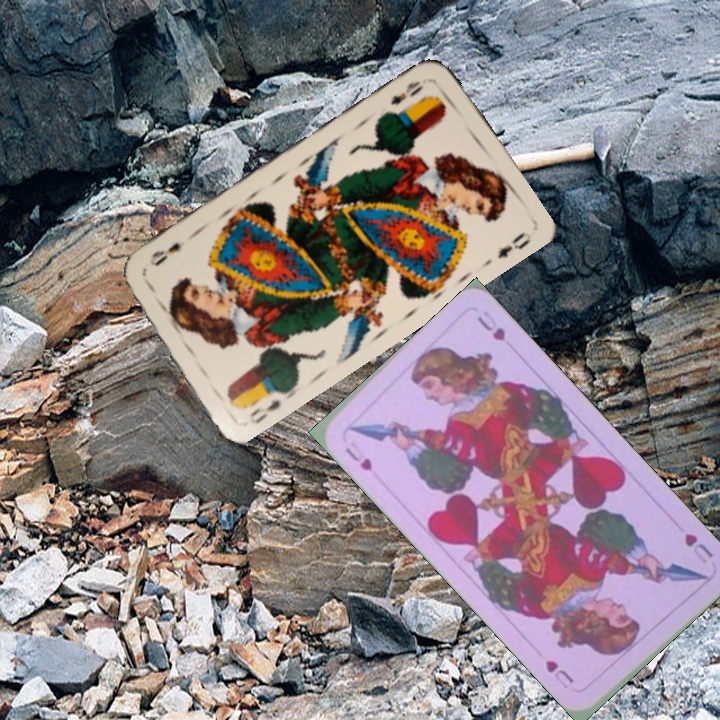EO: (244, 385, 293, 427), (386, 76, 427, 108)
HU: (680, 529, 716, 566), (341, 443, 375, 474)
